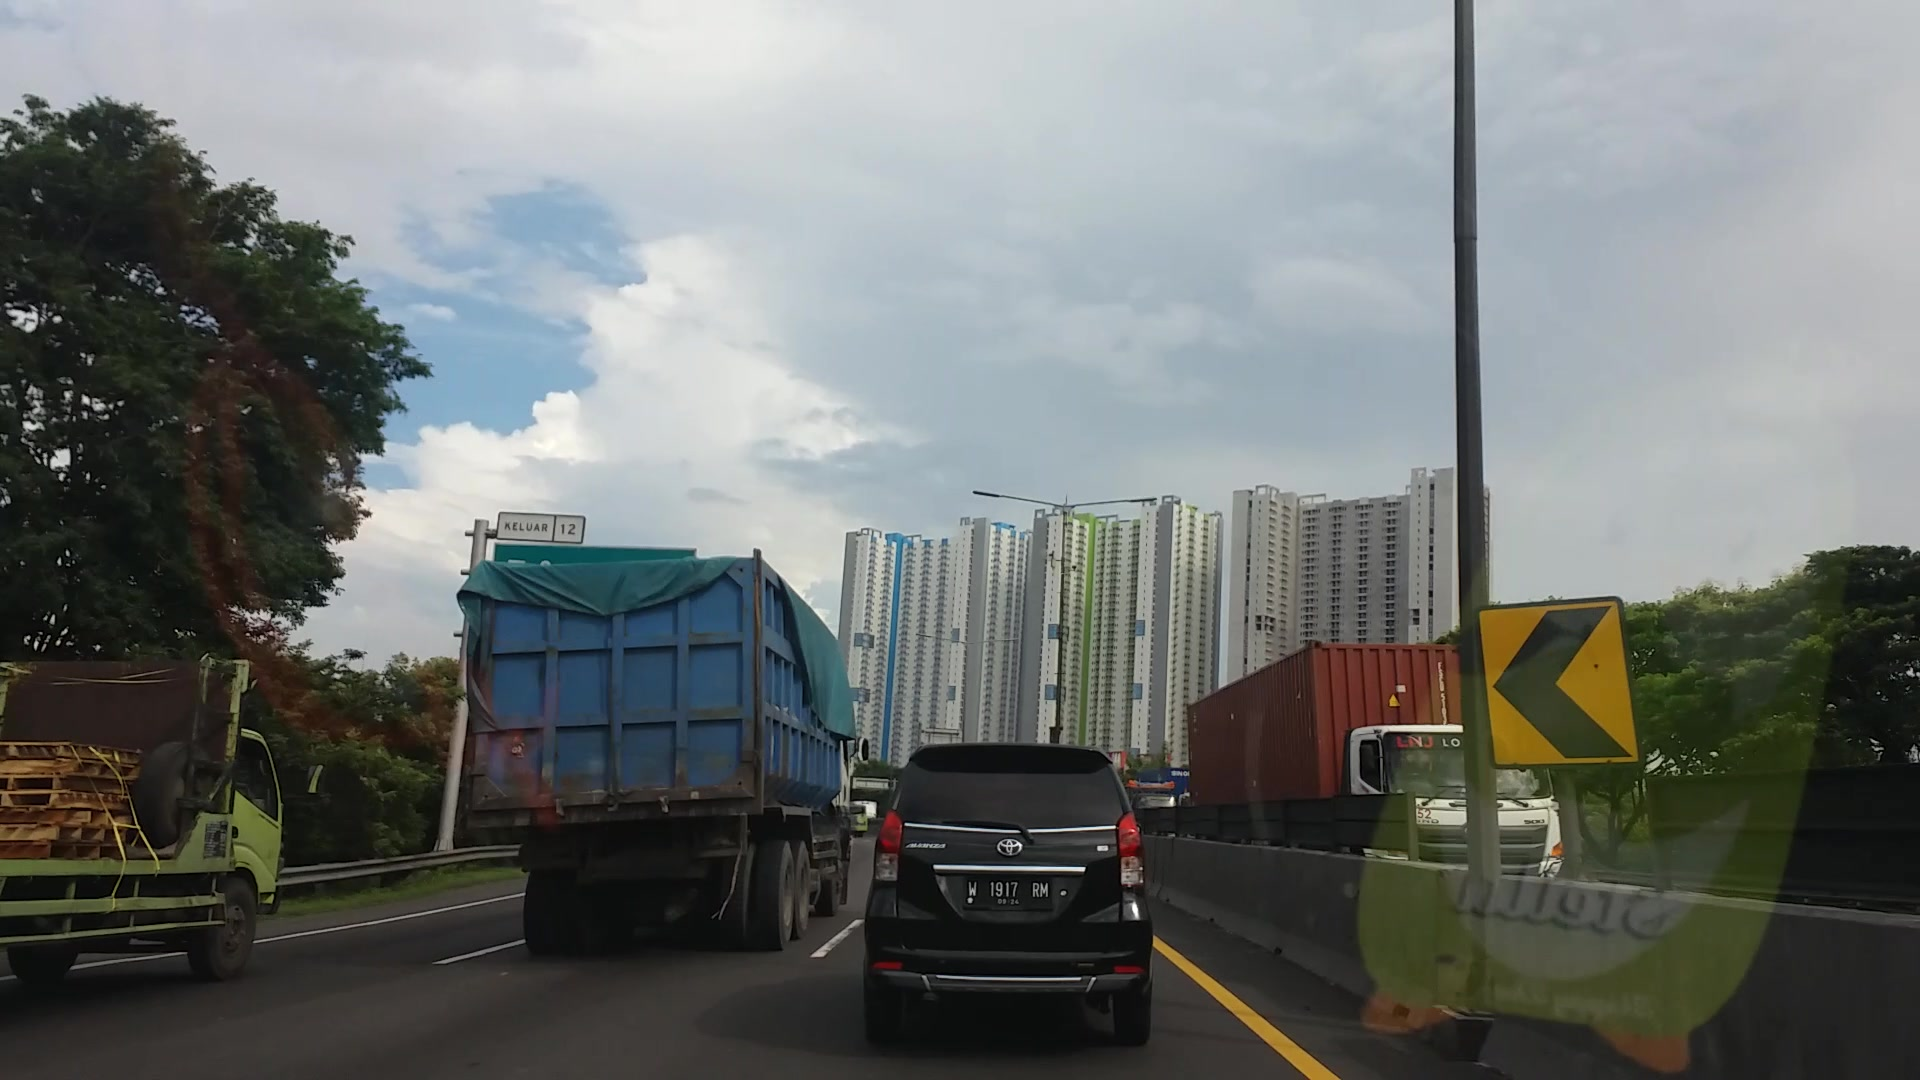plate_positive: (965, 874, 1051, 907)
